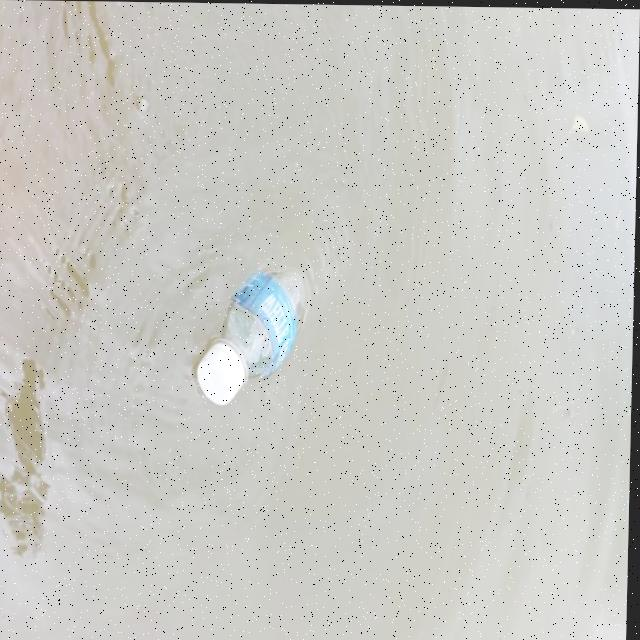waterbottle: (170, 218, 352, 431)
